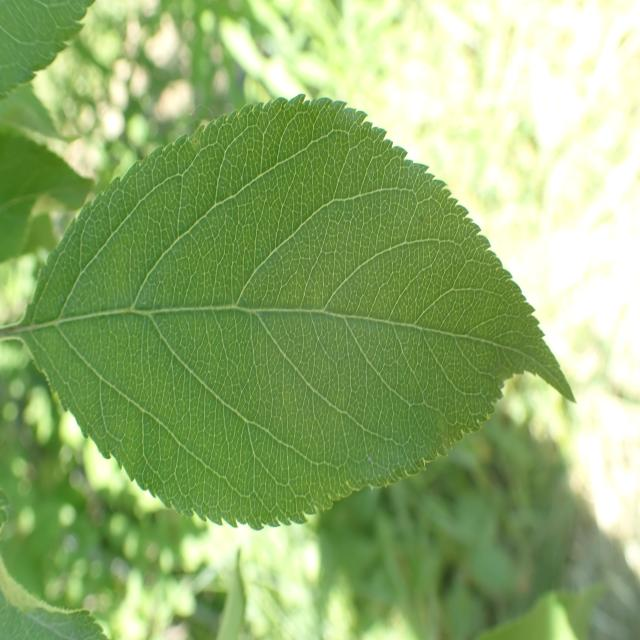healthy: (21, 94, 578, 530), (0, 0, 96, 99)
